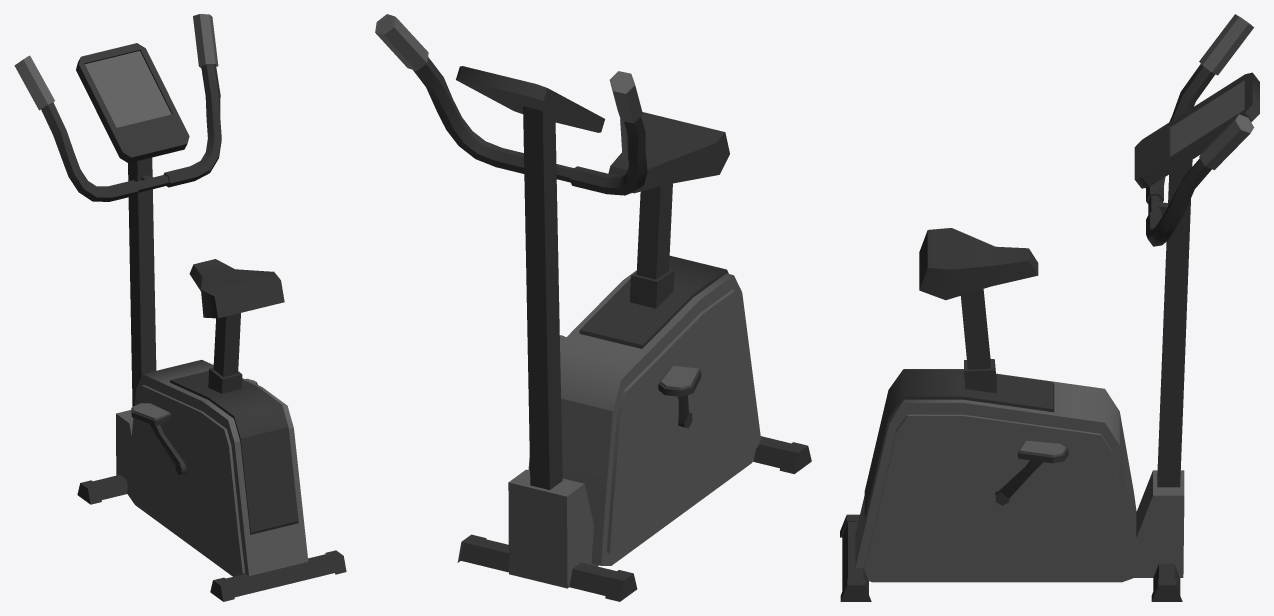
The model's file is exercise_bike.fbx.
The picture shows the model from 3 angles, left to right: view 1: azimuth 30°, elevation 25°; view 2: azimuth 150°, elevation 25°; view 3: azimuth 270°, elevation 25°; orthographic projection. The views are drawn at different scales.
Visible parts, largest first — view 1: exercise_bike; view 2: exercise_bike; view 3: exercise_bike.
Boxes of the visible parts, <box> form: exercise_bike: <box>14,14,346,601</box>; exercise_bike: <box>375,14,811,601</box>; exercise_bike: <box>840,14,1259,601</box>.
Size of the model in its own units: 0.7997 by 1.66 by 1.26.
Materials: 1 (1 with a texture image).
